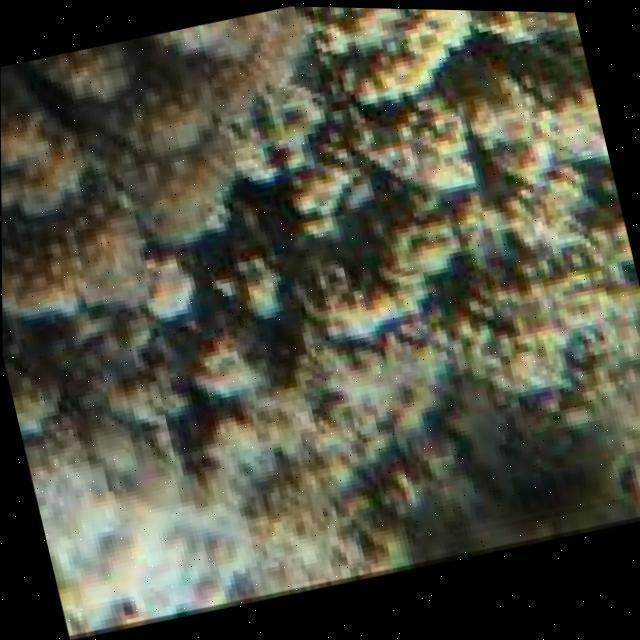Dead Coral: (11, 36, 595, 471)
